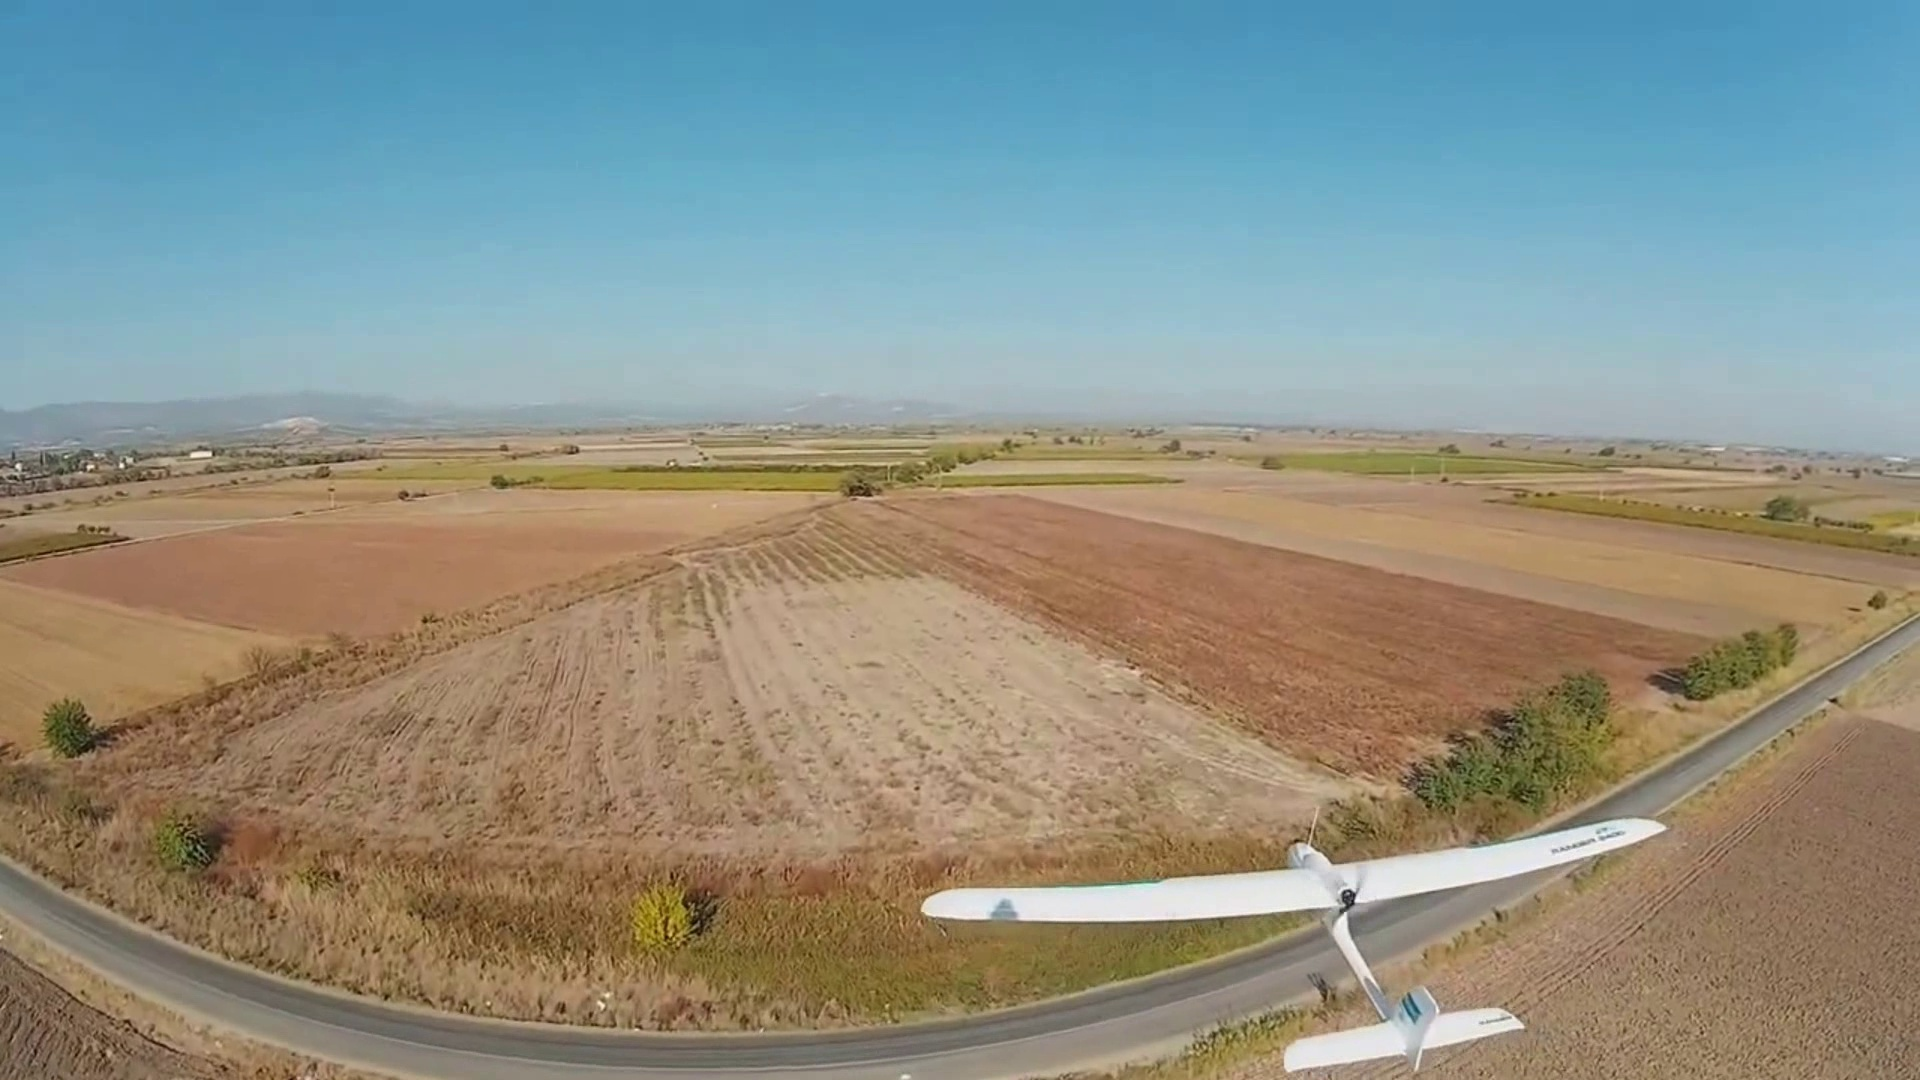airplane: (918, 810, 1671, 1069)
